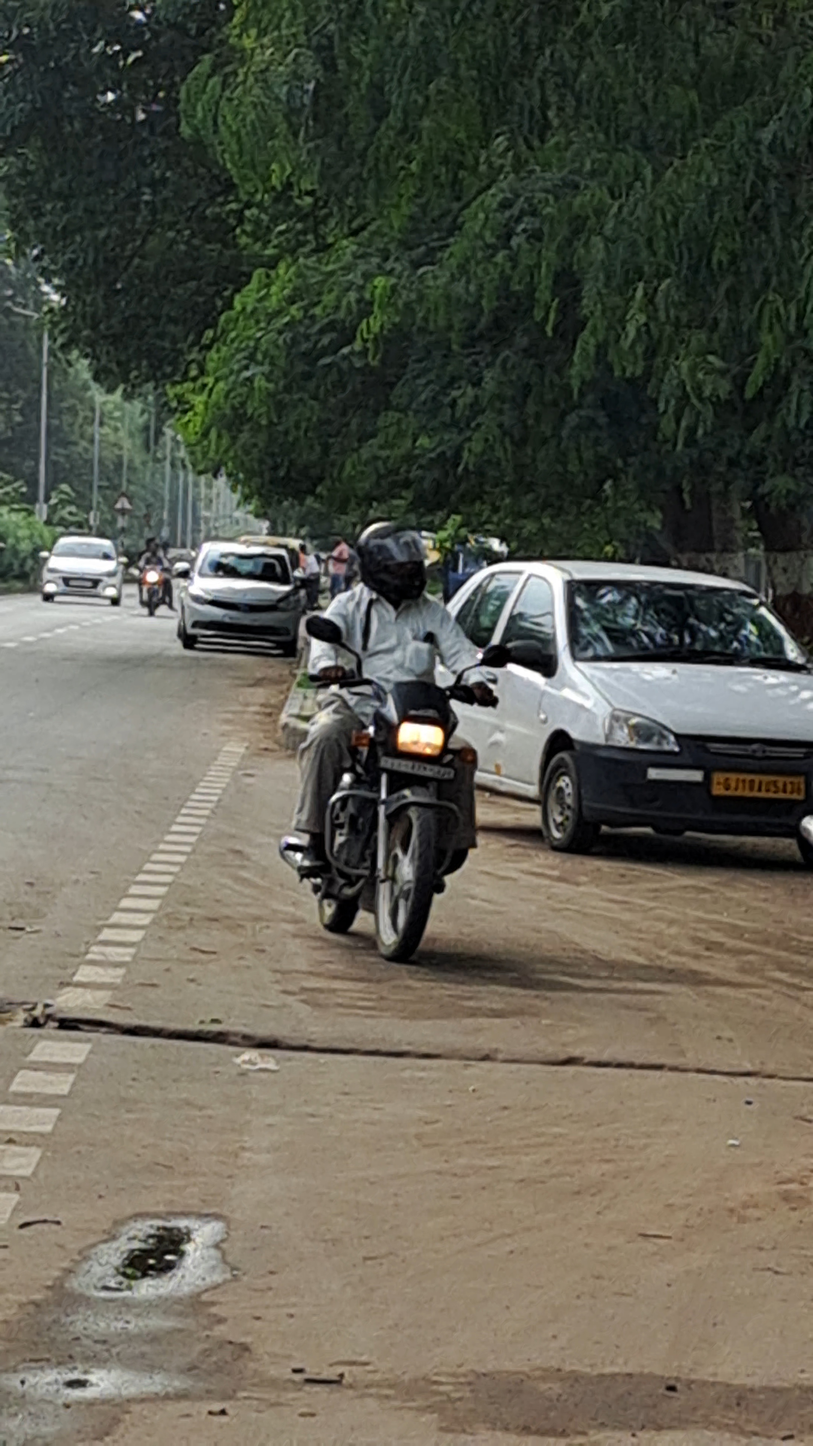BikeWithRider: (267, 512, 518, 973), (128, 530, 181, 620)
Helmet: (347, 515, 437, 608)
